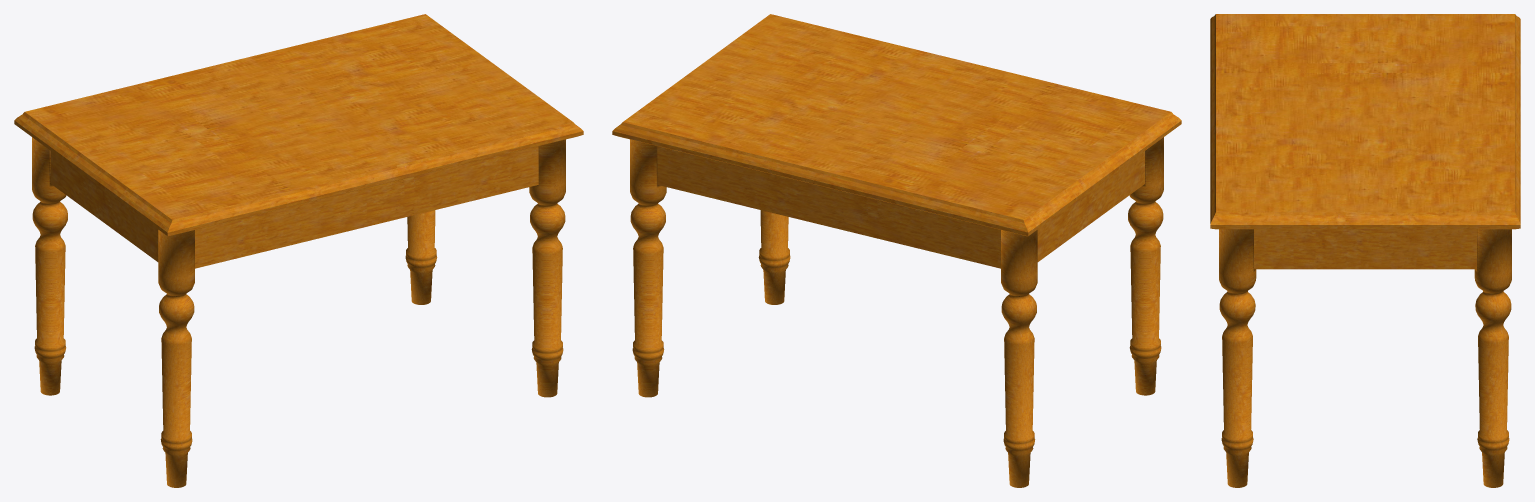
The picture shows the model from 3 angles, left to right: view 1: azimuth 30°, elevation 25°; view 2: azimuth 150°, elevation 25°; view 3: azimuth 270°, elevation 25°; orthographic projection.
Parts seen in each view (by area): view 1: Table; view 2: Table; view 3: Table.
Part boxes in pixels (x1,y1,x2,y2): Table: (14,14,583,487); Table: (612,14,1181,487); Table: (1210,14,1520,487).
Size of the model in its own units: 11.67 by 7.38 by 7.45.
Materials: 1 (1 with a texture image).
